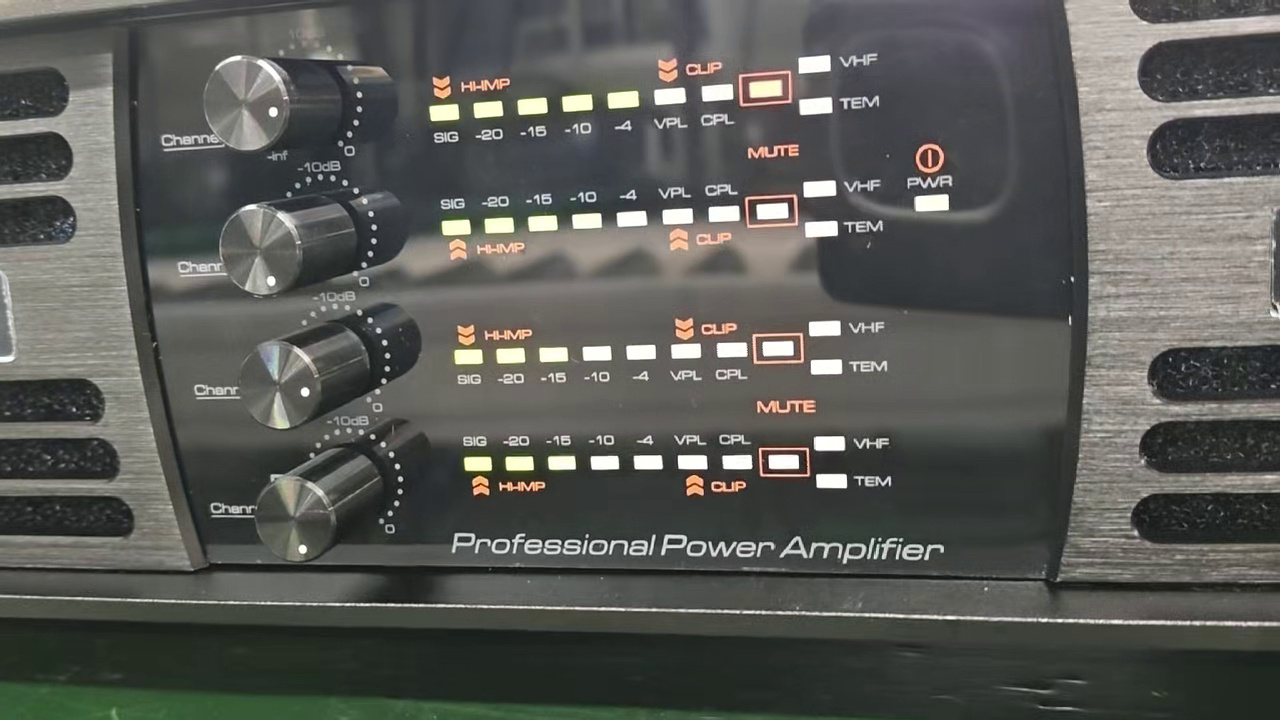FP_CPL: (695, 77, 739, 133), (702, 179, 743, 231), (715, 426, 755, 479), (712, 336, 752, 387)
FP_PWR: (900, 172, 961, 218)
FP_PWR_area: (897, 133, 965, 229)
FP_SIG_area: (418, 51, 894, 147), (430, 179, 889, 262), (455, 424, 904, 506), (446, 310, 892, 390)
FP_VPL: (665, 337, 706, 390), (650, 83, 690, 134), (657, 179, 696, 230), (673, 427, 711, 476)
